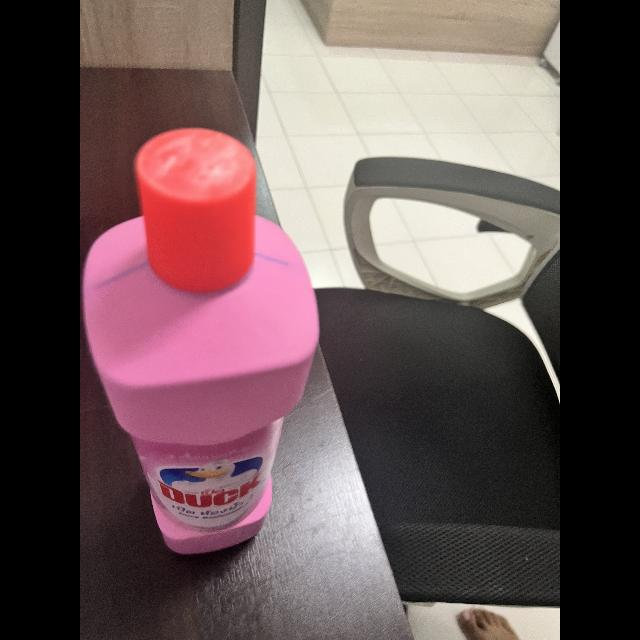chemical_plastic_bottle: (84, 124, 318, 560)
